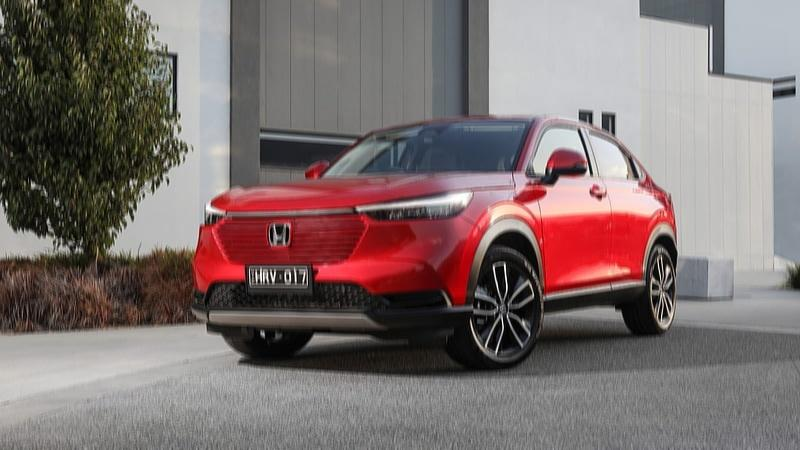Car hood: (208, 168, 522, 214)
Fender - -F-L-: (460, 169, 550, 303)
Fender - -R-L-: (643, 182, 669, 239)
Front bumper: (186, 224, 490, 337)
Headlight - -L-: (349, 185, 481, 228)
Headlight - -R-: (199, 198, 230, 227)
Passenger-s door - -F-L-: (544, 118, 611, 294)
Passenger-s door - -R-L-: (595, 124, 658, 287)
Side bumper - -L-: (531, 272, 653, 313)
Side mirror - -L-: (535, 145, 592, 189)
Side mirror - -R-: (293, 154, 336, 186)
